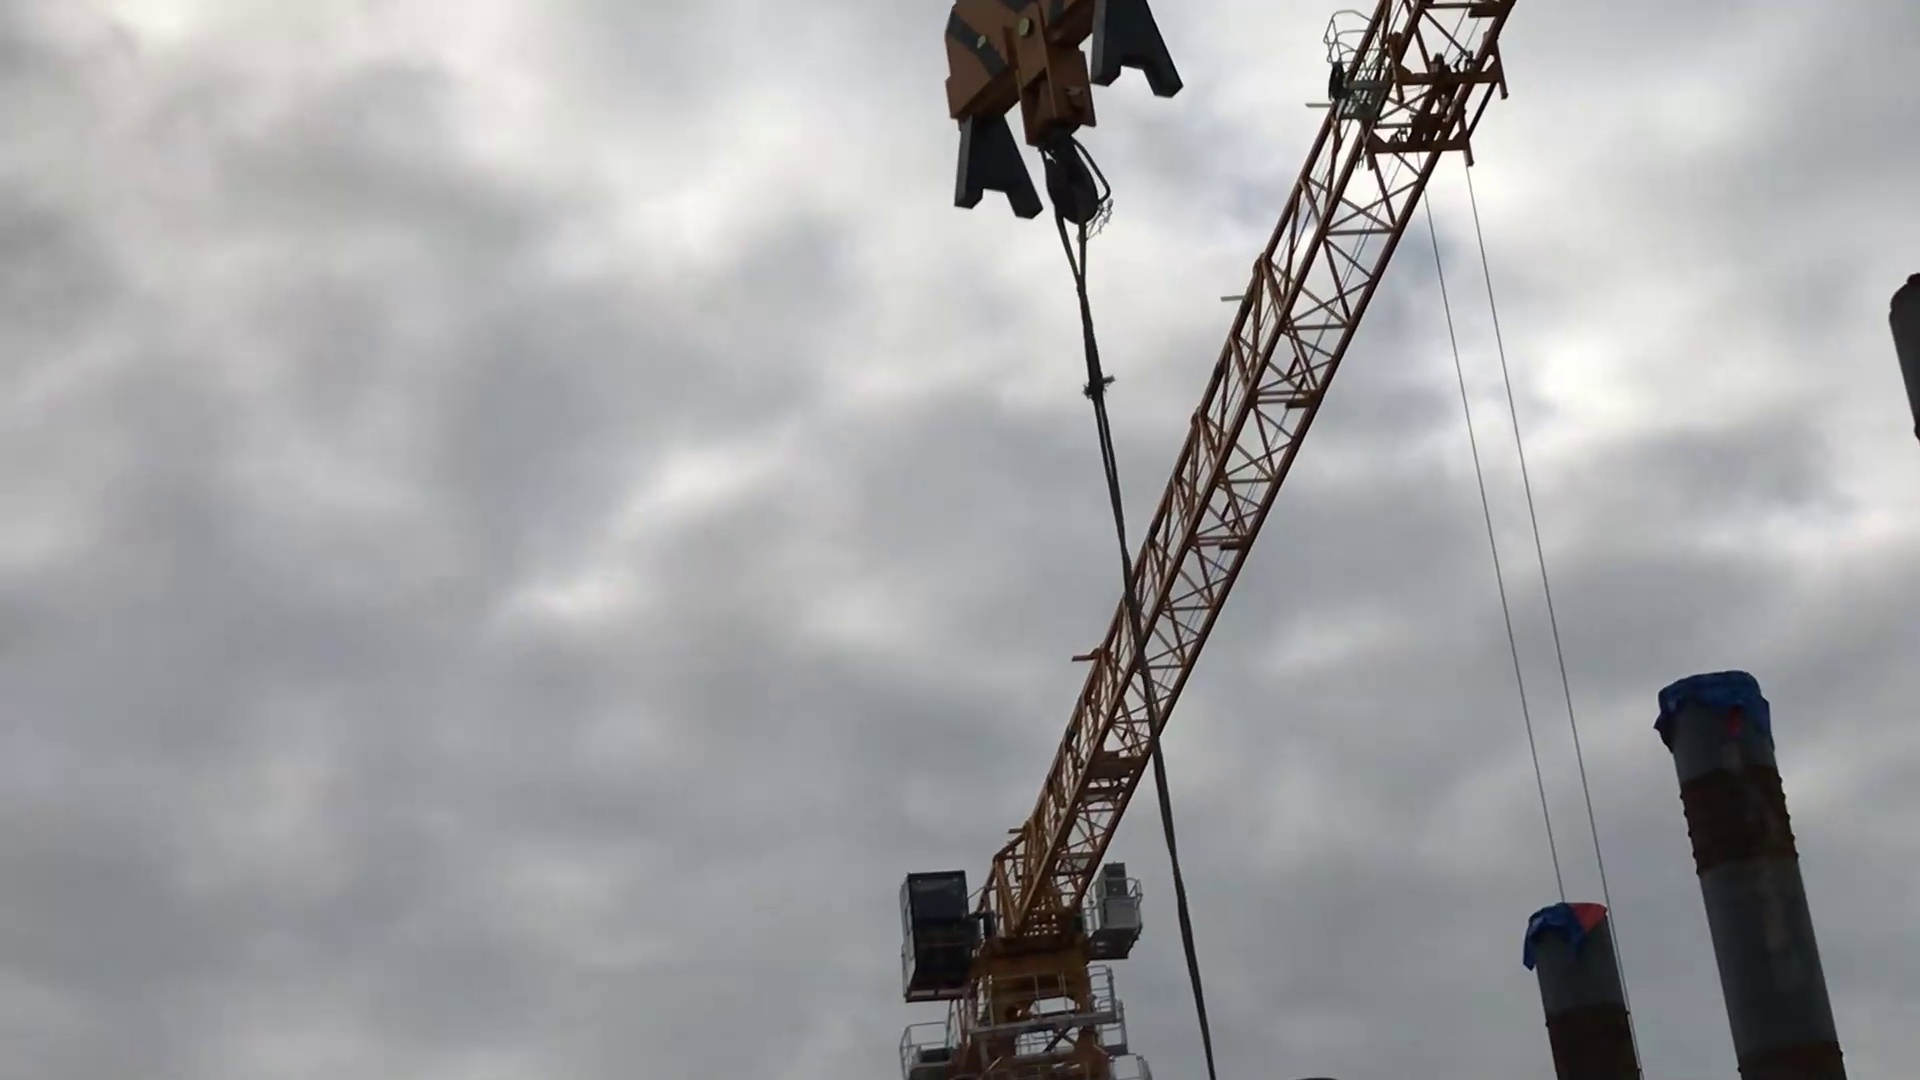hook: (932, 1, 1189, 239)
